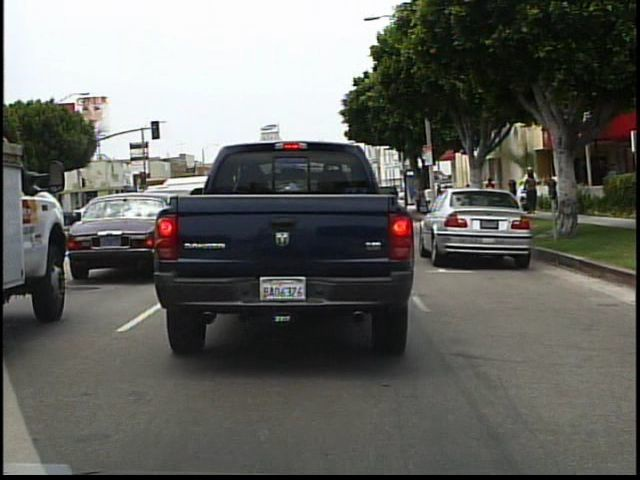person: (483, 173, 499, 212)
